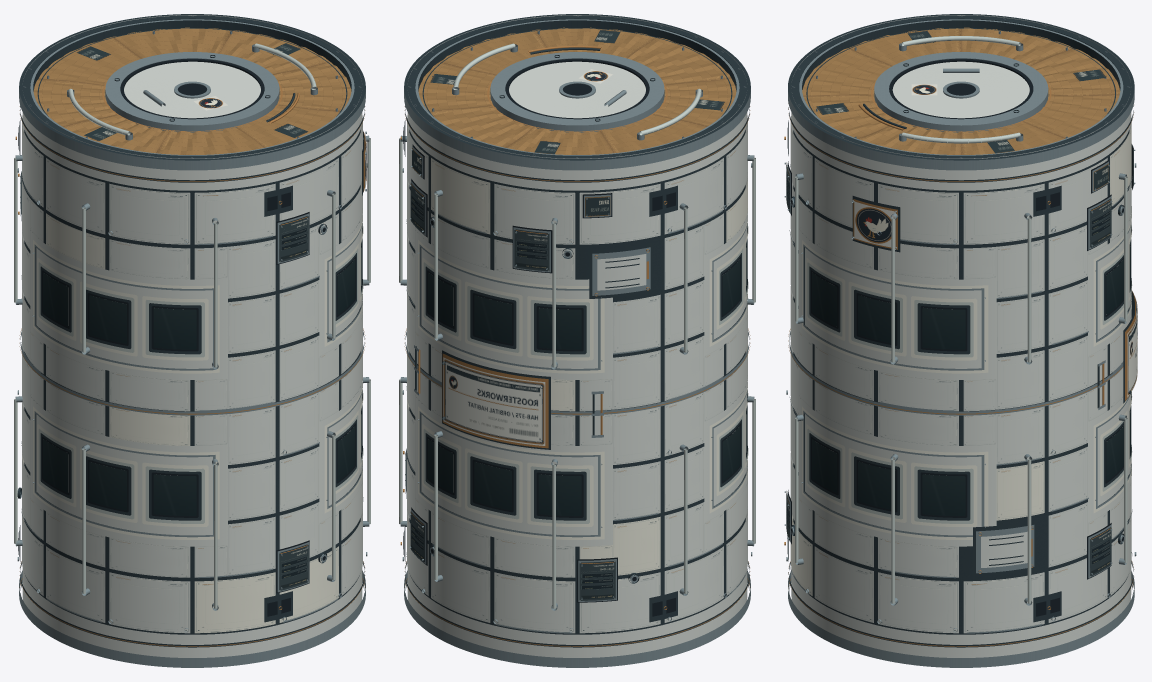
File: RW_HAB_375.obj
3 views of the same model, side by side, from view 1: azimuth 30°, elevation 25°; view 2: azimuth 150°, elevation 25°; view 3: azimuth 270°, elevation 25° (orthographic).
Parts seen in each view (by area): view 1: cladding, ceramic, graphite, steel, hubblanket, rail, glass, white, cladding_white, black, detail, bronze; view 2: cladding, ceramic, graphite, steel, hubblanket, rail, white, glass, cladding_white, label, detail, black (+1 smaller); view 3: cladding, ceramic, graphite, steel, hubblanket, rail, white, glass, black, cladding_white, detail, bronze (+2 smaller).
Boxes of the visible parts, left/top/right/bottom form: cladding: left=22, top=115, right=362, bottom=633; ceramic: left=20, top=15, right=362, bottom=657; graphite: left=17, top=14, right=365, bottom=647; steel: left=15, top=15, right=369, bottom=667; hubblanket: left=33, top=27, right=351, bottom=154; rail: left=14, top=43, right=370, bottom=608; glass: left=43, top=233, right=362, bottom=515; white: left=33, top=218, right=363, bottom=539; cladding_white: left=22, top=213, right=338, bottom=633; black: left=18, top=58, right=362, bottom=616; detail: left=76, top=43, right=308, bottom=591; bronze: left=15, top=82, right=365, bottom=646; cladding: left=407, top=115, right=747, bottom=633; ceramic: left=405, top=15, right=747, bottom=657; graphite: left=404, top=14, right=750, bottom=647; steel: left=400, top=15, right=754, bottom=667; hubblanket: left=418, top=27, right=736, bottom=154; rail: left=399, top=43, right=755, bottom=608; white: left=418, top=218, right=748, bottom=539; glass: left=428, top=233, right=747, bottom=515; cladding_white: left=407, top=158, right=747, bottom=575; label: left=443, top=357, right=545, bottom=445; detail: left=410, top=29, right=724, bottom=600; black: left=403, top=58, right=747, bottom=616; cladding: left=790, top=116, right=1131, bottom=633; ceramic: left=791, top=15, right=1131, bottom=657; graphite: left=788, top=14, right=1134, bottom=647; steel: left=784, top=15, right=1136, bottom=667; hubblanket: left=802, top=27, right=1120, bottom=154; rail: left=795, top=36, right=1132, bottom=603; white: left=802, top=215, right=1132, bottom=539; glass: left=812, top=241, right=1131, bottom=515; black: left=787, top=58, right=1132, bottom=616; cladding_white: left=790, top=125, right=1131, bottom=595; detail: left=786, top=30, right=1133, bottom=576; bronze: left=784, top=82, right=1135, bottom=646.
Bounding box in the file's own units: 3.71 × 5.94 × 3.74.
Materials: 14 (14 with a texture image).
